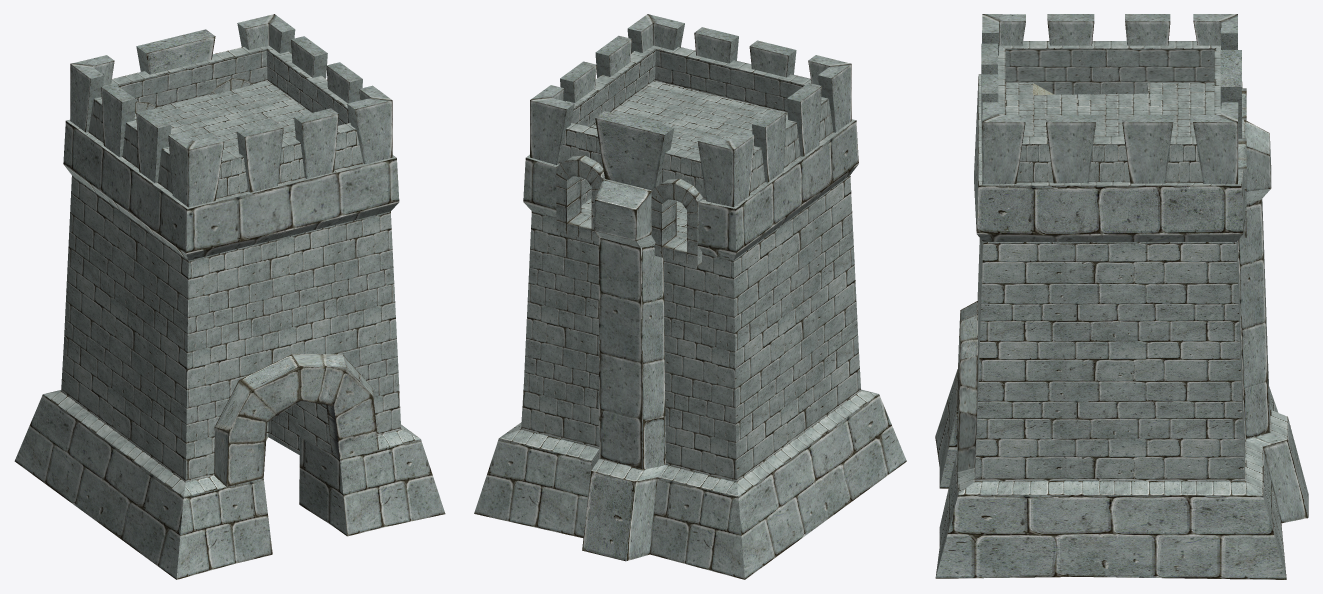
File: towerA.FBX
3 renders of one model, left to right at view 1: azimuth 30°, elevation 25°; view 2: azimuth 150°, elevation 25°; view 3: azimuth 270°, elevation 25°, orthographic. The views are drawn at different scales.
Visible parts, largest first — view 1: tower_A; view 2: tower_A; view 3: tower_A.
Boxes of the visible parts, x1,y1,x2,y2 form: tower_A: (14,14,445,579); tower_A: (474,14,906,579); tower_A: (935,14,1308,579).
Size of the model in its own units: 12.79 by 18.74 by 14.07.
